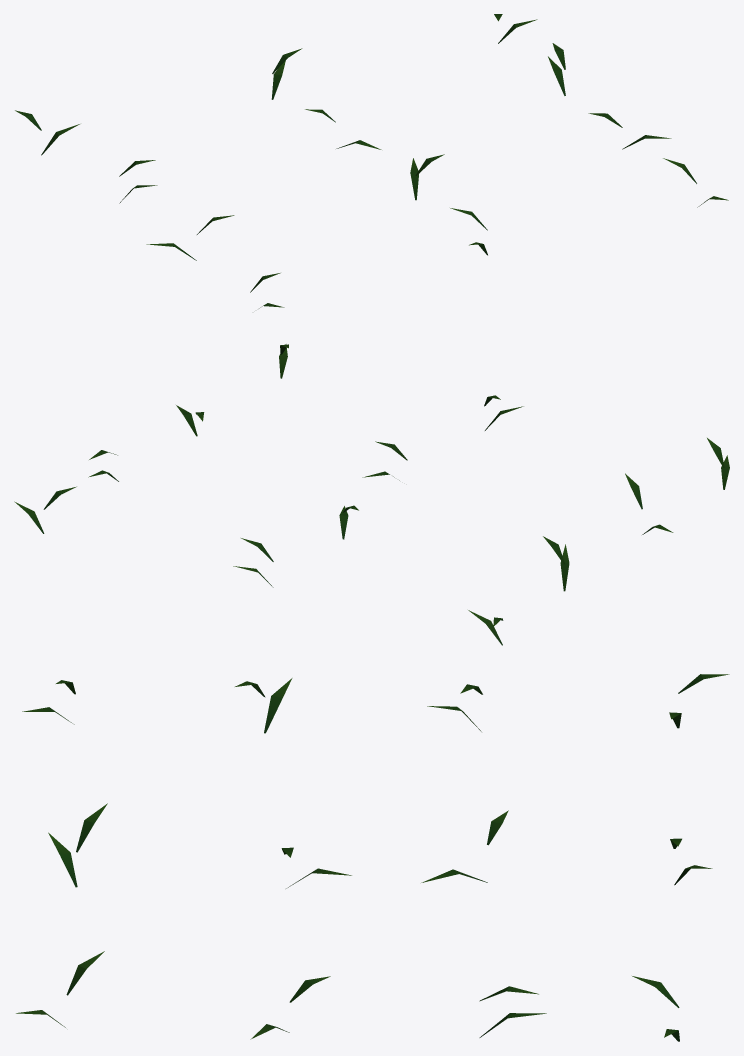
File: fm_maize_1_lod1.glb
3 renders of one model, top to bottom at view 1: azimuth 30°, elevation 25°; view 2: azimuth 150°, elevation 25°; view 3: azimuth 270°, elevation 25°, orthographic. The views are drawn at different scales.
Visible parts, largest first — view 1: fm_maize_1_lod1; view 2: fm_maize_1_lod1; view 3: fm_maize_1_lod1.
Boxes of the visible parts, bbox=[...] form: fm_maize_1_lod1: bbox=[15, 14, 728, 308]; fm_maize_1_lod1: bbox=[14, 344, 729, 645]; fm_maize_1_lod1: bbox=[16, 674, 729, 1041].
Size of the model in its own units: 3.12 by 0.2714 by 2.62.
